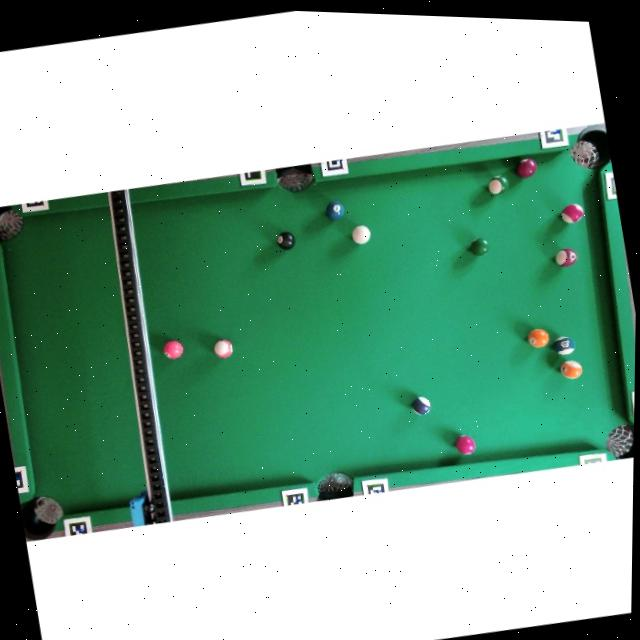cue ball: (349, 223, 373, 246)
other: (558, 200, 586, 226), (513, 155, 540, 180), (558, 356, 584, 381), (525, 325, 551, 350), (552, 245, 579, 269), (485, 172, 510, 197), (550, 333, 576, 357), (466, 234, 492, 258), (211, 336, 235, 361), (453, 432, 477, 457), (161, 337, 185, 361), (409, 393, 433, 417), (323, 198, 347, 222), (275, 228, 297, 252)
